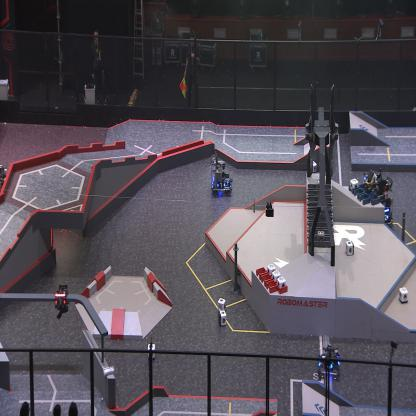car: (364, 176, 393, 228), (211, 152, 232, 196), (318, 342, 340, 380), (0, 164, 7, 203)
